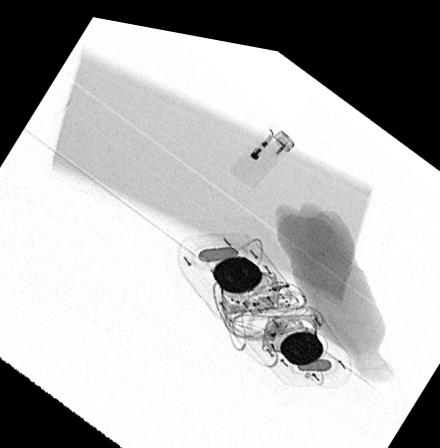Lighter: (228, 113, 295, 180)
